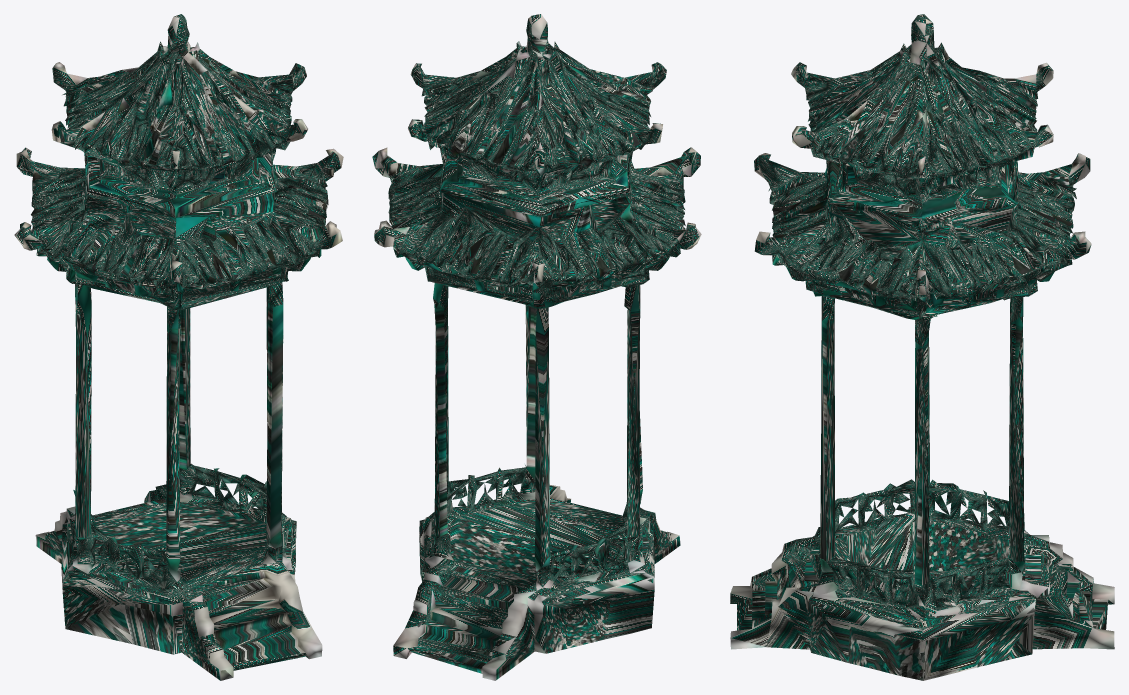
File: bq_herb_pav.lod.glb
3 views of the same model, side by side, from view 1: azimuth 30°, elevation 25°; view 2: azimuth 150°, elevation 25°; view 3: azimuth 270°, elevation 25° (orthographic). The views are drawn at different scales.
Size of the model in its own units: 1.11 by 1.9 by 1.09.
Materials: 1 (1 with a texture image).
